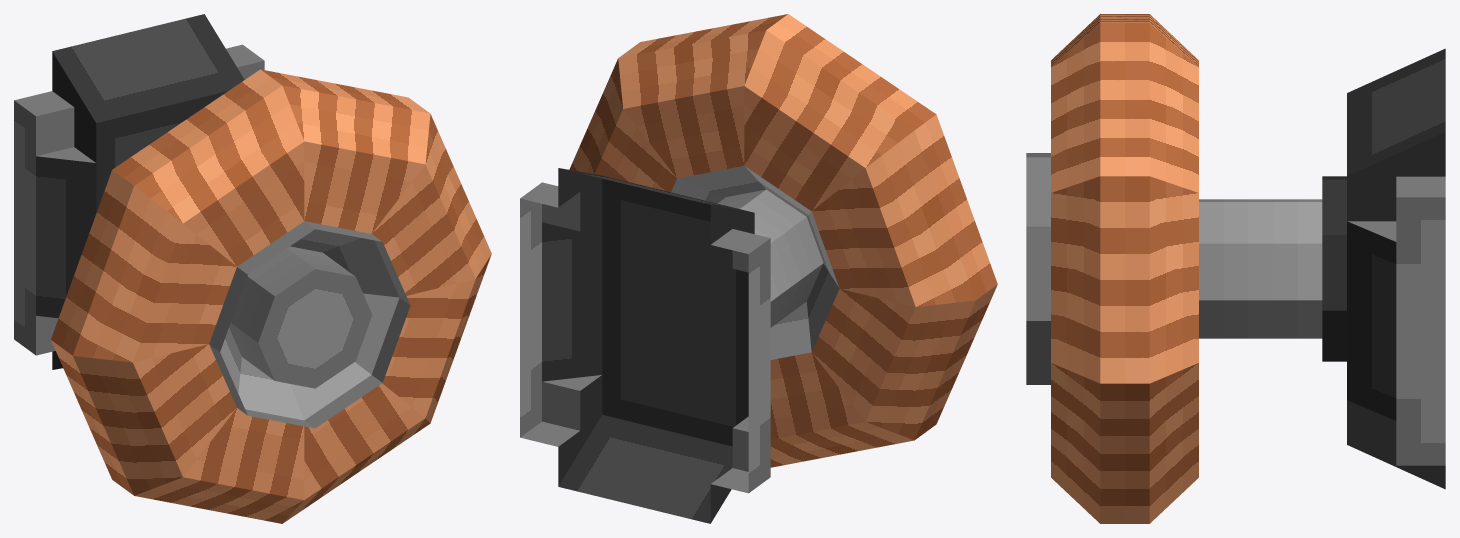
The model's file is mod_tesla.obj.
3 renders of one model, left to right at view 1: azimuth 30°, elevation 25°; view 2: azimuth 150°, elevation 25°; view 3: azimuth 270°, elevation 25°, orthographic. The views are drawn at different scales.
Parts seen in each view (by area): view 1: Cube; view 2: Cube; view 3: Cube.
Boxes of the visible parts, box(x1,y1,x2,y2) form: Cube: box(14, 14, 491, 523); Cube: box(520, 14, 997, 523); Cube: box(1026, 14, 1445, 523).
Bounding box in the file's own units: 11 × 11 × 8.5.
